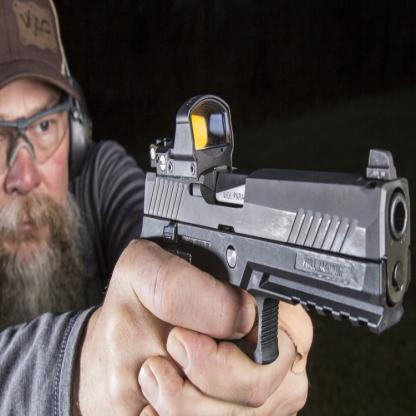gun: (102, 76, 416, 382)
